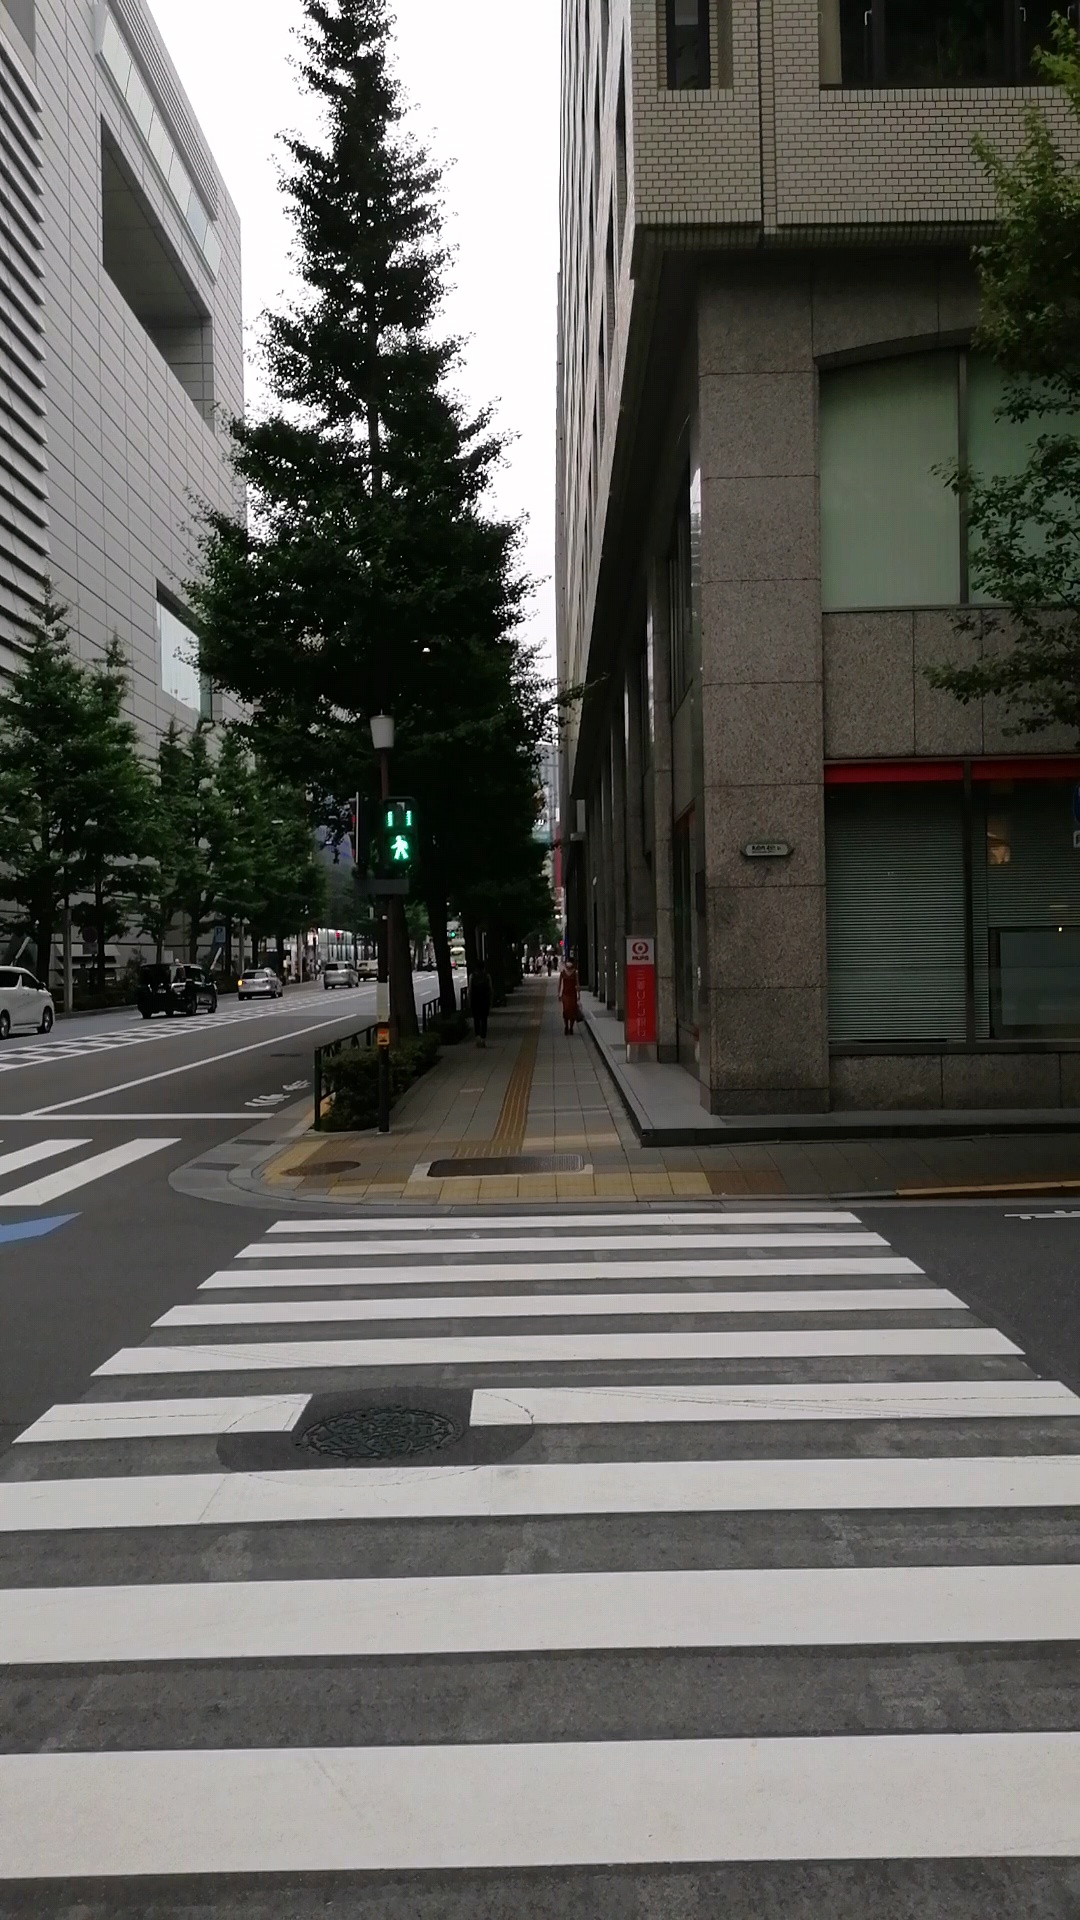green: (378, 796, 419, 866)
